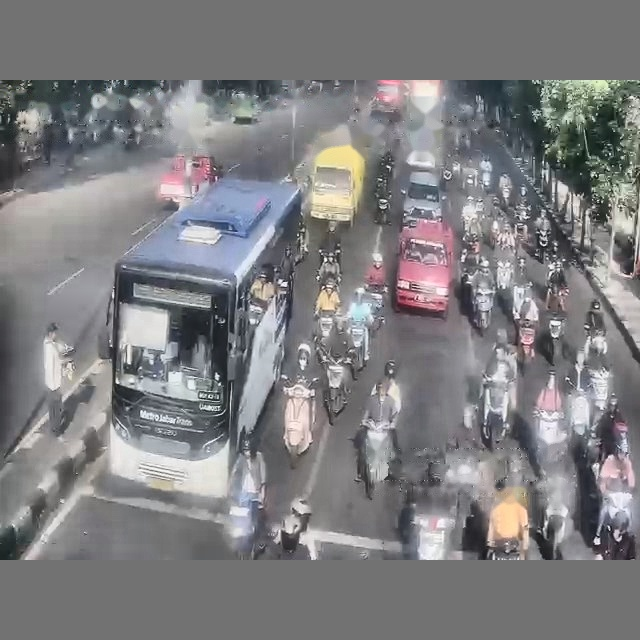Bis: (108, 177, 302, 497)
Motor: (281, 375, 318, 468), (363, 419, 392, 499), (228, 492, 261, 559), (539, 487, 569, 559), (481, 377, 508, 449), (324, 353, 351, 424), (565, 378, 591, 449), (535, 408, 566, 466), (349, 321, 368, 371), (474, 287, 494, 334), (518, 318, 535, 368), (548, 312, 564, 365), (584, 323, 607, 356), (487, 539, 520, 559), (316, 311, 335, 344), (496, 259, 512, 294), (536, 228, 550, 263), (374, 198, 389, 224), (501, 185, 510, 209), (482, 171, 491, 193)
